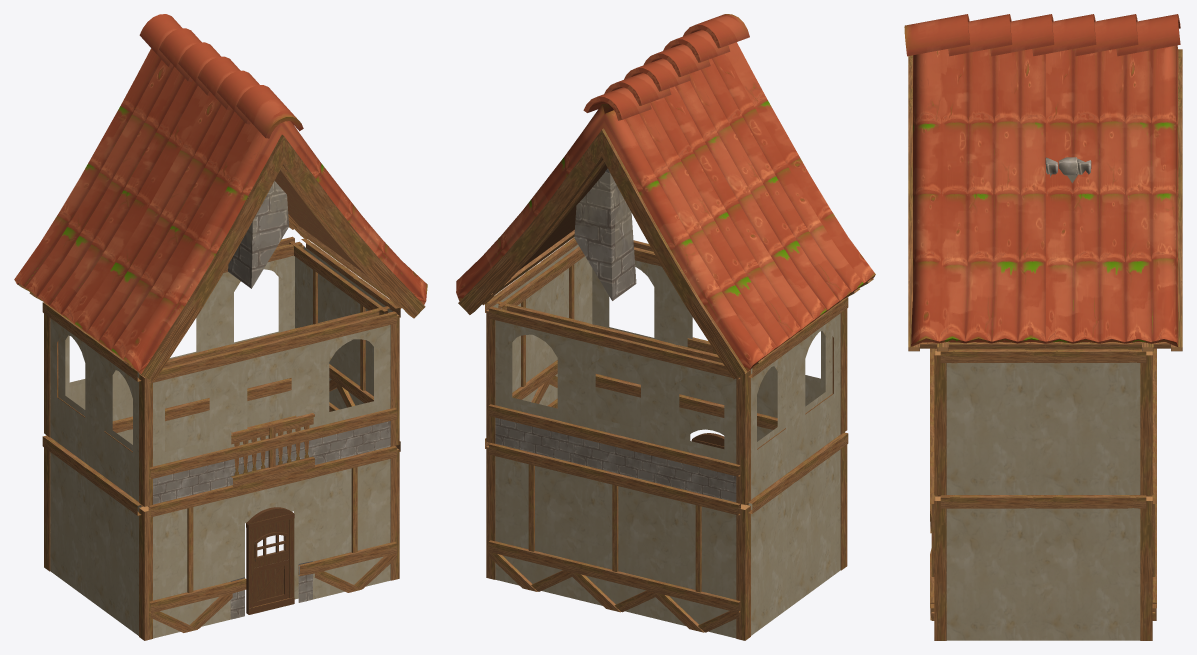
Rendered from House_WideC.fbx.
3 renders of one model, left to right at view 1: azimuth 30°, elevation 25°; view 2: azimuth 150°, elevation 25°; view 3: azimuth 270°, elevation 25°, orthographic. The views are drawn at different scales.
Parts seen in each view (by area): view 1: House_WideC; view 2: House_WideC; view 3: House_WideC.
Boxes of the visible parts, box(x1,y1,x2,y2) form: House_WideC: box(14, 14, 427, 640); House_WideC: box(456, 14, 875, 640); House_WideC: box(904, 14, 1182, 640).
Bounding box in the file's own units: 740 × 1195 × 540.
